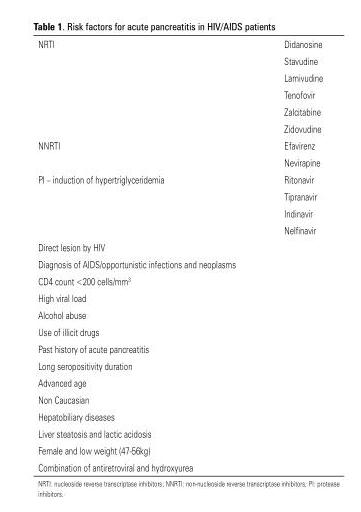table: (37, 37, 322, 472)
table column: (37, 37, 259, 472), (259, 37, 322, 472)
table projected row header: (37, 238, 322, 255), (37, 255, 322, 272), (37, 288, 322, 305), (37, 305, 322, 322), (37, 322, 322, 339), (37, 339, 322, 356), (37, 356, 322, 373), (37, 373, 322, 390), (37, 390, 322, 407), (37, 407, 322, 424), (37, 424, 322, 441), (37, 441, 322, 458), (37, 272, 322, 288)
table row: (37, 51, 322, 68), (37, 68, 322, 85), (37, 85, 322, 102), (37, 102, 322, 119), (37, 119, 322, 136), (37, 136, 322, 153), (37, 153, 322, 170), (37, 170, 322, 187), (37, 187, 322, 204), (37, 204, 322, 221), (37, 221, 322, 238), (37, 238, 322, 255), (37, 255, 322, 272), (37, 288, 322, 305), (37, 305, 322, 322), (37, 322, 322, 339), (37, 339, 322, 356), (37, 356, 322, 373), (37, 373, 322, 390), (37, 390, 322, 407), (37, 407, 322, 424), (37, 424, 322, 441), (37, 441, 322, 458), (37, 272, 322, 288), (37, 37, 322, 51), (37, 458, 322, 472)
table spanning cell: (37, 37, 259, 136), (37, 170, 259, 238), (37, 136, 259, 170)
